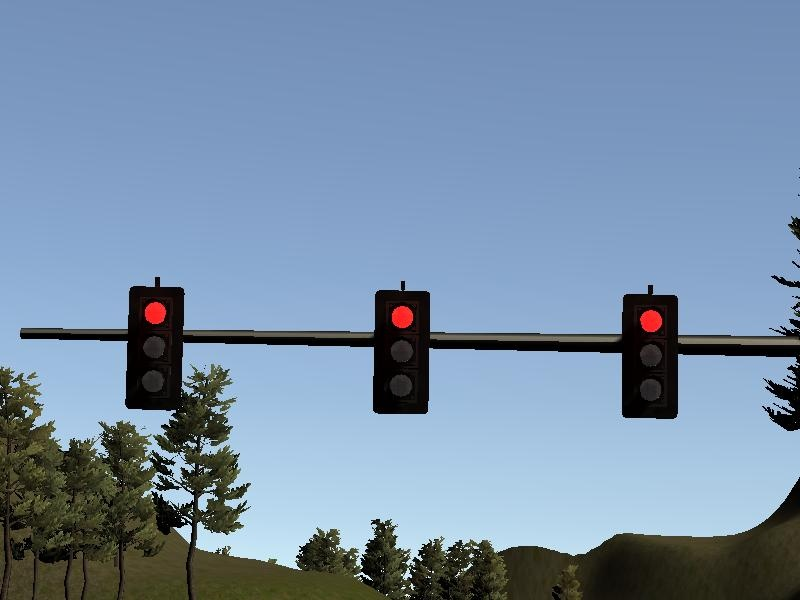Red: (127, 285, 183, 412), (374, 287, 430, 414), (622, 293, 678, 420)
